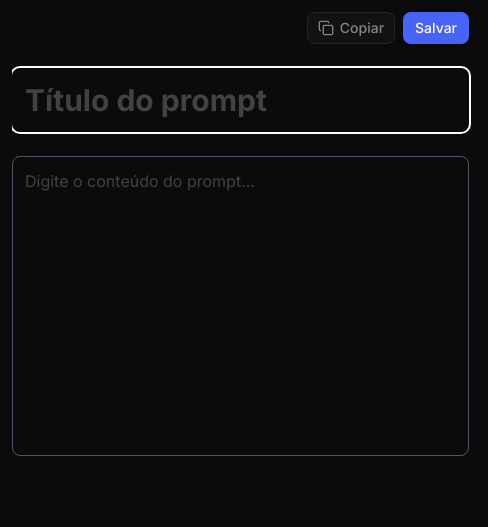
PromptForm › deve exibir as mensagens de erro quando o formulário estiver vazio
Click the button "Salvar" at [436, 28], box top-left (403, 12), bottom-right (469, 44)
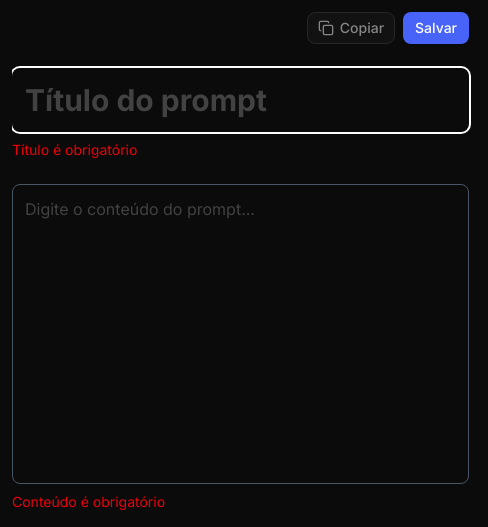
expect the text "Título é obrigatório" is shown: met, box top-left (12, 141), bottom-right (137, 158)
expect the text "Conteúdo é obrigatório" is shown: met, box top-left (12, 493), bottom-right (165, 510)
